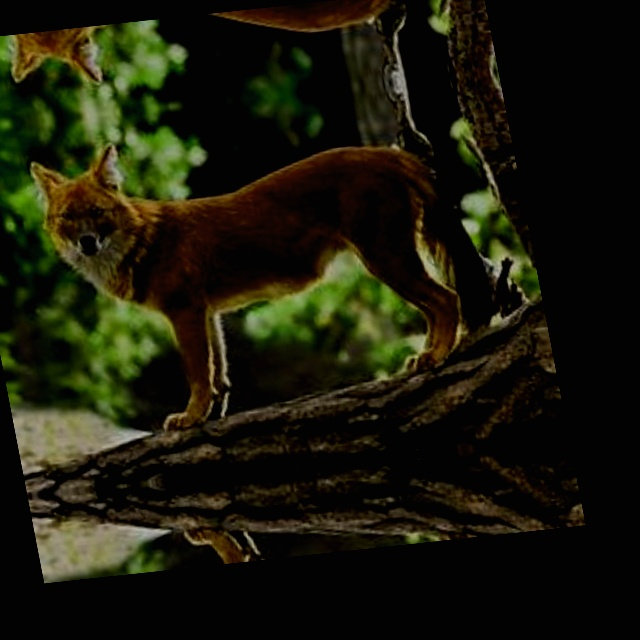dog: (17, 129, 511, 434), (88, 501, 538, 578), (0, 0, 441, 70)
